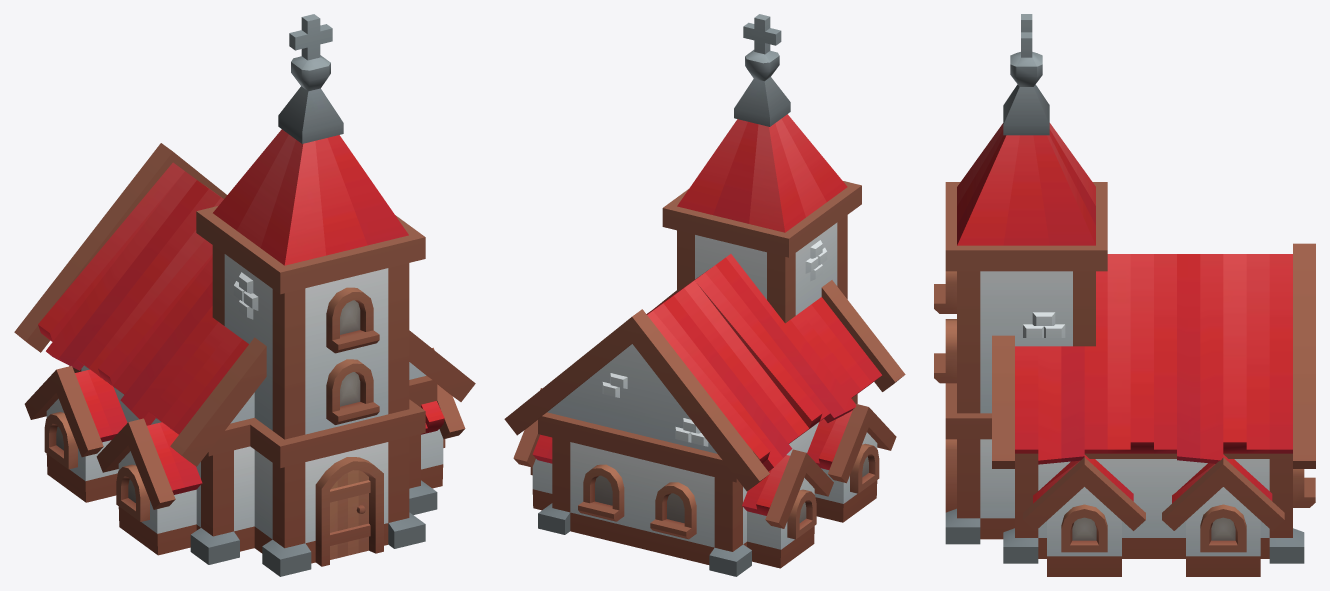
File: kk_church_v1.glb
3 renders of one model, left to right at view 1: azimuth 30°, elevation 25°; view 2: azimuth 150°, elevation 25°; view 3: azimuth 270°, elevation 25°, orthographic. The views are drawn at different scales.
Parts seen in each view (by area): view 1: building_church_red; view 2: building_church_red; view 3: building_church_red.
Part boxes in pixels (bbox=[...]): building_church_red: bbox=[14, 14, 475, 576]; building_church_red: bbox=[504, 14, 905, 576]; building_church_red: bbox=[934, 14, 1315, 576].
Bounding box in the file's own units: 1.03 × 1.65 × 1.16.
Materials: 1 (1 with a texture image).
